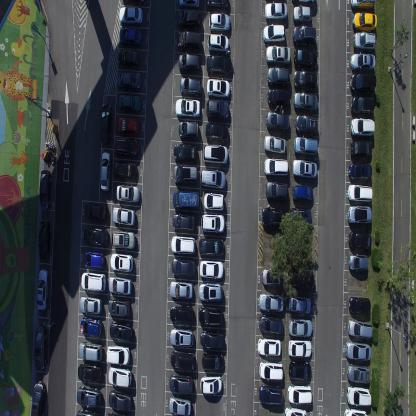car: (34, 325, 48, 372), (170, 348, 195, 373), (259, 312, 283, 337), (346, 384, 372, 407), (289, 268, 315, 291), (203, 143, 229, 166), (82, 224, 108, 247), (349, 72, 376, 94), (172, 189, 200, 210), (30, 380, 46, 416), (258, 383, 283, 406), (76, 385, 101, 408), (38, 169, 52, 210), (345, 339, 371, 361), (200, 168, 226, 190), (198, 236, 224, 258), (99, 101, 112, 145), (80, 271, 106, 293), (176, 30, 202, 52), (36, 268, 49, 311), (38, 219, 51, 262), (294, 47, 318, 70), (289, 205, 312, 229), (108, 365, 132, 388), (108, 389, 132, 412), (170, 373, 194, 396), (292, 90, 317, 112), (292, 157, 317, 179), (261, 207, 286, 229), (77, 362, 102, 384), (169, 278, 194, 300), (169, 304, 194, 326), (347, 204, 373, 225), (258, 291, 284, 312), (349, 51, 376, 71), (118, 92, 141, 115), (348, 160, 372, 182), (294, 114, 318, 136), (265, 110, 289, 132), (257, 335, 281, 357), (206, 99, 230, 121), (201, 212, 225, 234), (114, 136, 138, 158), (83, 200, 107, 222), (292, 69, 317, 90), (259, 360, 284, 381), (206, 54, 231, 75), (198, 305, 223, 326), (116, 183, 141, 204), (111, 205, 136, 226), (105, 345, 130, 366), (171, 257, 196, 278), (169, 326, 194, 347), (286, 384, 312, 404), (347, 318, 373, 338), (347, 183, 373, 203), (263, 157, 289, 177), (265, 45, 291, 65), (172, 164, 198, 184), (170, 235, 196, 255), (349, 230, 372, 252), (109, 320, 132, 342), (79, 317, 102, 339), (292, 24, 316, 45), (262, 23, 286, 44), (205, 121, 229, 142), (173, 142, 197, 163), (350, 117, 375, 137), (350, 95, 375, 115), (199, 260, 224, 280), (198, 282, 223, 302), (177, 10, 202, 30), (174, 98, 200, 117), (180, 75, 202, 97), (199, 375, 222, 396), (347, 364, 371, 384), (264, 1, 288, 21), (294, 136, 318, 156), (266, 87, 290, 107), (266, 66, 290, 86), (288, 318, 312, 338), (288, 338, 312, 358), (206, 78, 230, 98), (118, 26, 142, 46), (112, 160, 136, 180), (108, 275, 132, 295), (78, 342, 102, 362), (352, 12, 377, 31), (199, 330, 224, 349), (117, 70, 142, 89), (264, 134, 286, 155), (288, 360, 310, 381), (208, 11, 230, 32), (118, 116, 140, 137), (112, 228, 134, 249), (108, 298, 130, 319), (100, 150, 111, 192), (348, 296, 371, 316), (353, 30, 376, 50), (288, 294, 311, 314), (78, 295, 101, 315), (173, 212, 196, 232), (110, 252, 134, 271), (207, 33, 229, 53), (202, 350, 224, 370), (117, 47, 139, 67), (265, 181, 288, 200), (168, 396, 191, 415), (118, 7, 142, 25), (178, 119, 198, 140), (350, 139, 372, 158), (203, 192, 225, 211), (178, 53, 200, 72), (260, 268, 283, 286), (292, 5, 312, 25), (292, 184, 313, 203), (348, 254, 368, 273), (84, 251, 104, 269), (206, 0, 229, 12), (349, 0, 375, 10), (284, 405, 308, 415), (178, 0, 200, 10), (344, 407, 368, 415), (76, 408, 101, 415), (121, 0, 145, 7), (290, 0, 315, 6)
